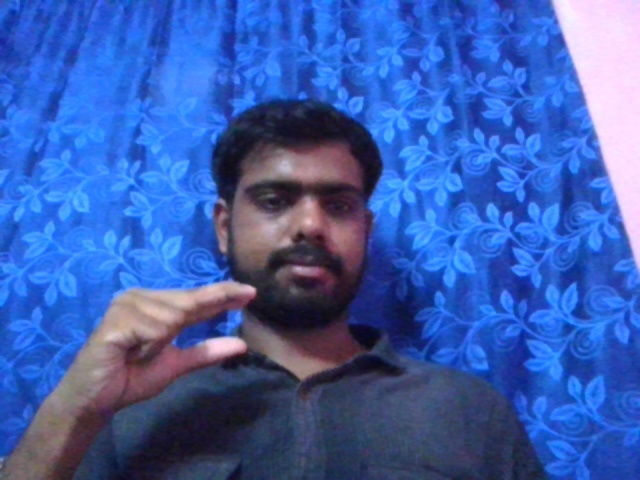No: (66, 275, 257, 401)
